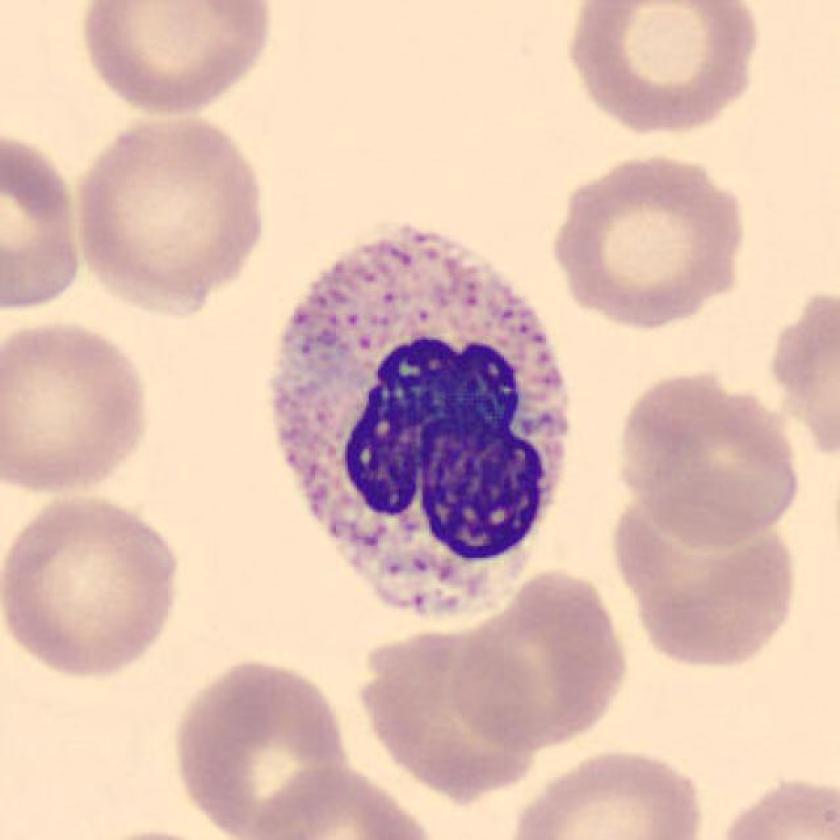neutrophil: (262, 224, 571, 621)
